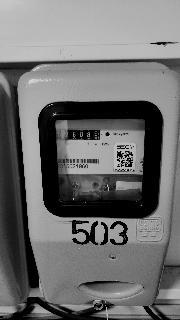1: (58, 133, 60, 138), (80, 132, 82, 137)
3: (66, 133, 68, 138)
9: (73, 132, 75, 137), (88, 133, 90, 138)
:: (95, 133, 97, 138)
